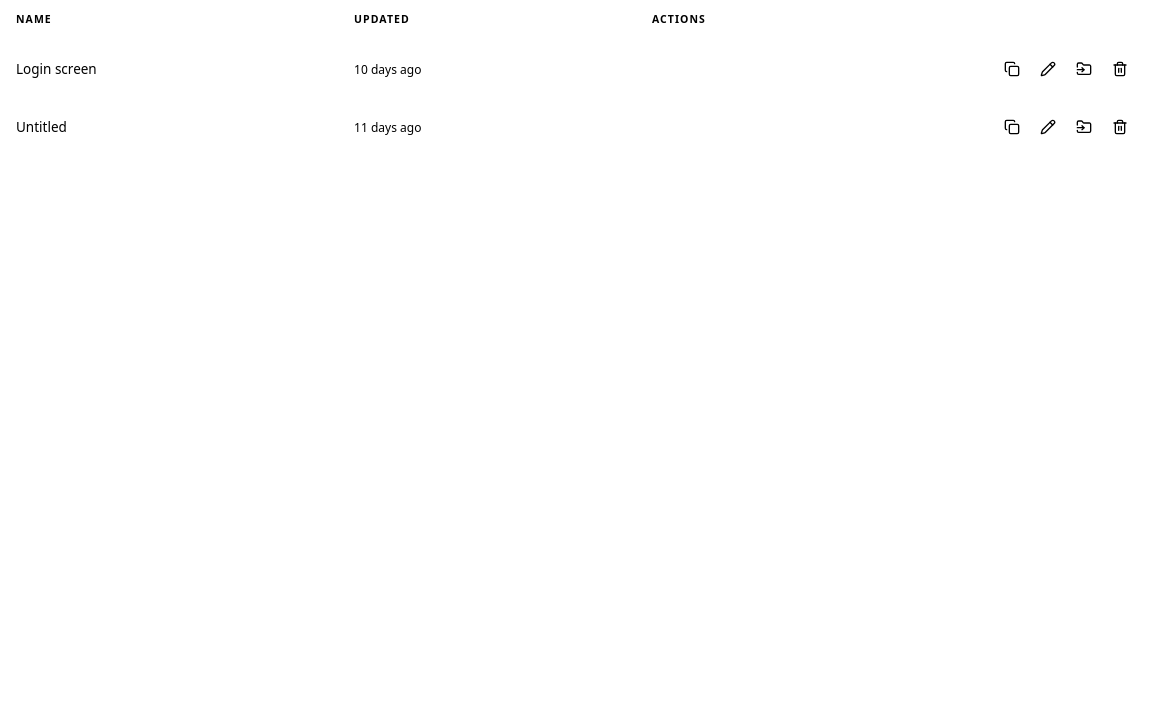
Test case: FilesTable - files (existing behavior) › shows an inline error in the row and does not refresh when deleting fails with a server error
Click the button named "Delete" in the row of "Login screen".
click(1120, 69)  # box [1104,53,1136,85]
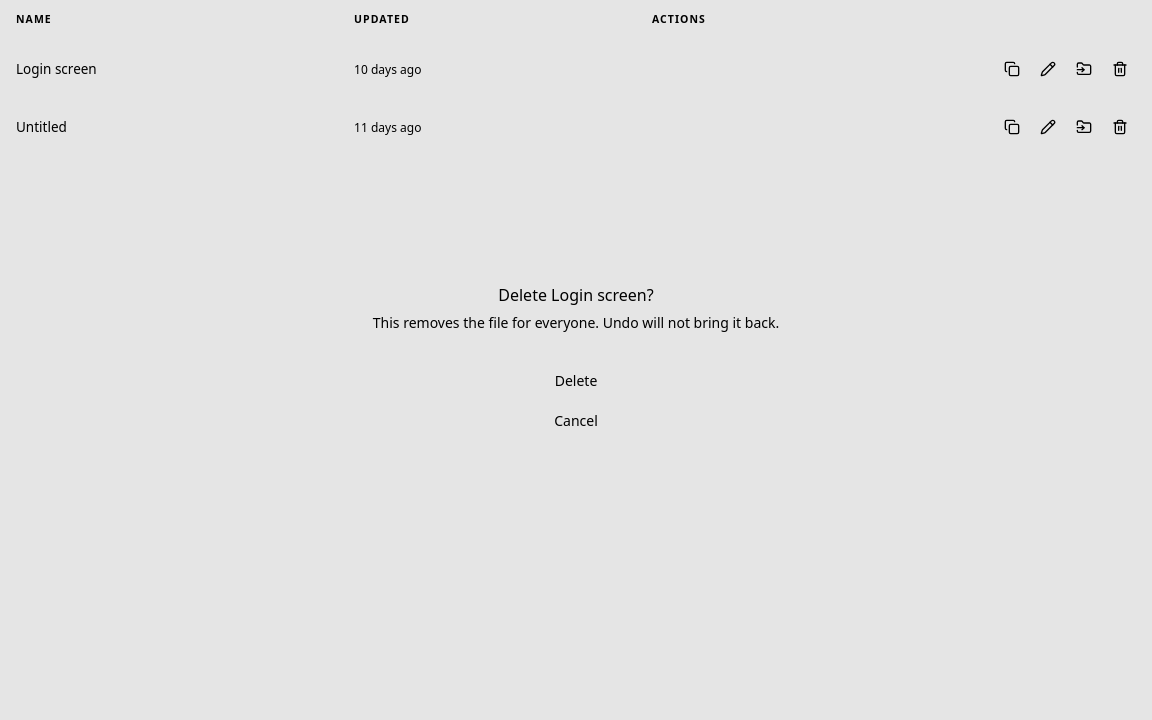
Click the button "Delete".
click(576, 381)  # box [16,365,1136,397]
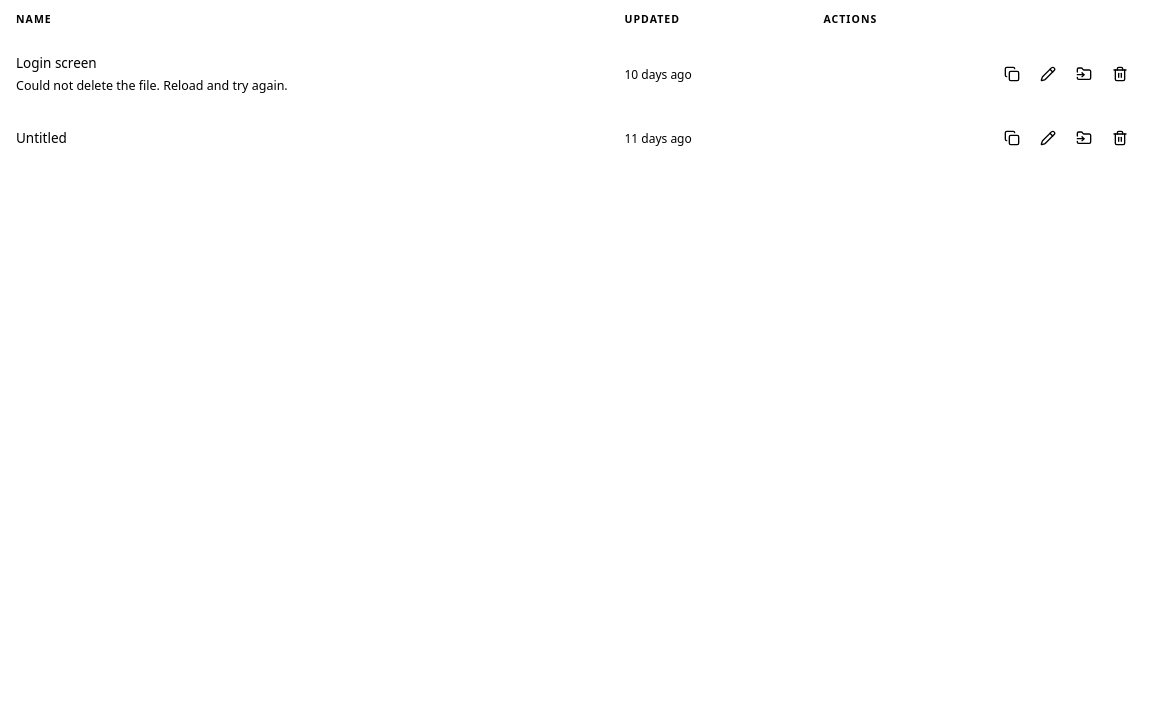
Now the message reads "Could not delete the file. Reload and try again.", box [16,77,288,94]
